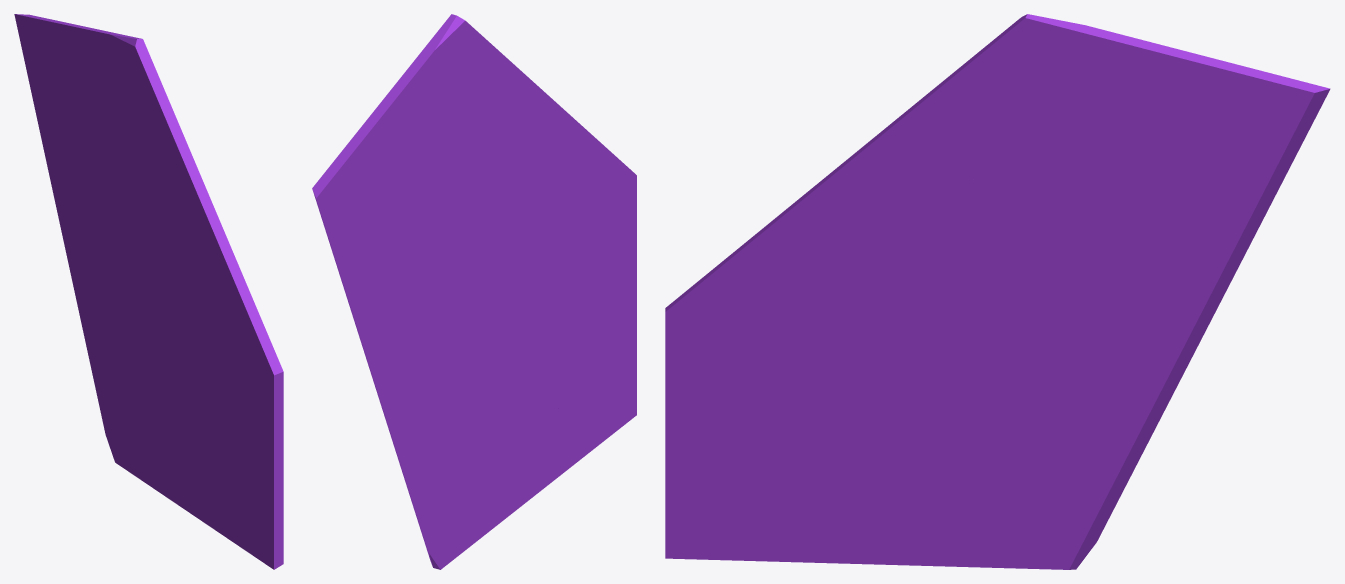
File: Glass_84_0_2_chunks.fbx
3 views of the same model, side by side, from view 1: azimuth 30°, elevation 25°; view 2: azimuth 150°, elevation 25°; view 3: azimuth 270°, elevation 25° (orthographic). The views are drawn at different scales.
Parts seen in each view (by area): view 1: Glass_84_0_2_19, Glass_84_0_2_3, Glass_84_0_2_2, Glass_84_0_2_23, Glass_84_0_2_4, Glass_84_0_2_18, Glass_84_0_2_1, Glass_84_0_2_15, Glass_84_0_2_14, Glass_84_0_2_6, Glass_84_0_2_17, Glass_84_0_2_33 (+13 smaller); view 2: Glass_84_0_2_3, Glass_84_0_2_2, Glass_84_0_2_19, Glass_84_0_2_4, Glass_84_0_2_1, Glass_84_0_2_23, Glass_84_0_2_18, Glass_84_0_2_15, Glass_84_0_2_6, Glass_84_0_2_14, Glass_84_0_2_17, Glass_84_0_2_33 (+14 smaller); view 3: Glass_84_0_2_3, Glass_84_0_2_19, Glass_84_0_2_2, Glass_84_0_2_23, Glass_84_0_2_18, Glass_84_0_2_4, Glass_84_0_2_6, Glass_84_0_2_14, Glass_84_0_2_15, Glass_84_0_2_13, Glass_84_0_2_33, Glass_84_0_2_17 (+19 smaller).
Part boxes in pixels (x1,y1,x2,y2): Glass_84_0_2_19: (206,411,283,569); Glass_84_0_2_3: (90,256,173,398); Glass_84_0_2_2: (14,14,98,138); Glass_84_0_2_23: (172,213,269,340); Glass_84_0_2_4: (158,267,257,391); Glass_84_0_2_18: (215,338,283,448); Glass_84_0_2_1: (75,109,132,287); Glass_84_0_2_15: (98,388,161,481); Glass_84_0_2_14: (143,444,237,545); Glass_84_0_2_6: (72,193,107,362); Glass_84_0_2_17: (148,383,219,495); Glass_84_0_2_33: (88,29,167,105); Glass_84_0_2_3: (404,251,513,521); Glass_84_0_2_2: (312,99,420,258); Glass_84_0_2_19: (553,266,636,450); Glass_84_0_2_4: (493,160,616,364); Glass_84_0_2_1: (391,162,462,344); Glass_84_0_2_23: (511,101,618,236); Glass_84_0_2_18: (564,159,636,302); Glass_84_0_2_15: (416,420,497,569); Glass_84_0_2_6: (375,289,430,491); Glass_84_0_2_14: (476,422,591,541); Glass_84_0_2_17: (481,363,569,463); Glass_84_0_2_33: (396,14,492,85); Glass_84_0_2_3: (910,284,1136,509); Glass_84_0_2_19: (665,401,849,561); Glass_84_0_2_2: (1110,46,1330,198); Glass_84_0_2_23: (701,169,924,283); Glass_84_0_2_18: (665,277,818,405); Glass_84_0_2_4: (744,283,946,400); Glass_84_0_2_6: (1100,257,1193,464); Glass_84_0_2_14: (777,506,1001,567); Glass_84_0_2_15: (969,462,1116,569); Glass_84_0_2_13: (1053,178,1177,304); Glass_84_0_2_33: (960,14,1143,95); Glass_84_0_2_17: (825,424,977,514).
Size of the model in its own units: 27.2 by 1186 by 1283.
